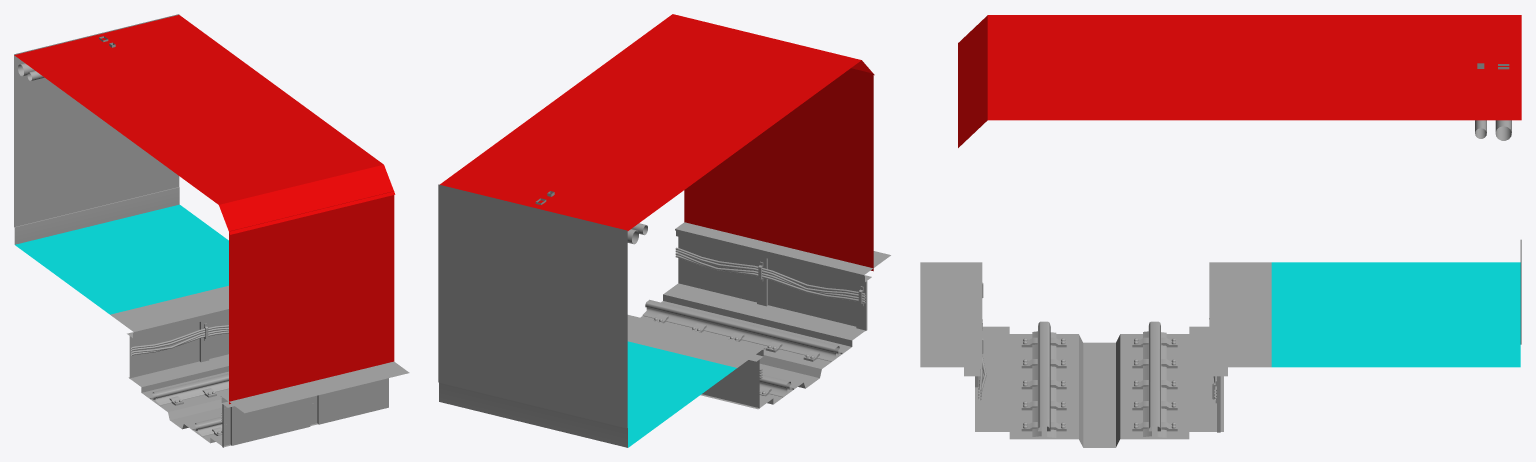
File: station_part_1.fbx
3 renders of one model, left to right at view 1: azimuth 30°, elevation 25°; view 2: azimuth 150°, elevation 25°; view 3: azimuth 270°, elevation 25°, orthographic. The views are drawn at different scales.
Parts seen in each view (by area): view 1: station_part_1; view 2: station_part_1; view 3: station_part_1.
Part boxes in pixels (x1=…): station_part_1: x1=14, y1=14, x2=409, y2=447; station_part_1: x1=438, y1=14, x2=890, y2=447; station_part_1: x1=920, y1=15, x2=1521, y2=447.
Size of the model in its own units: 2000 by 2934 by 4833.
